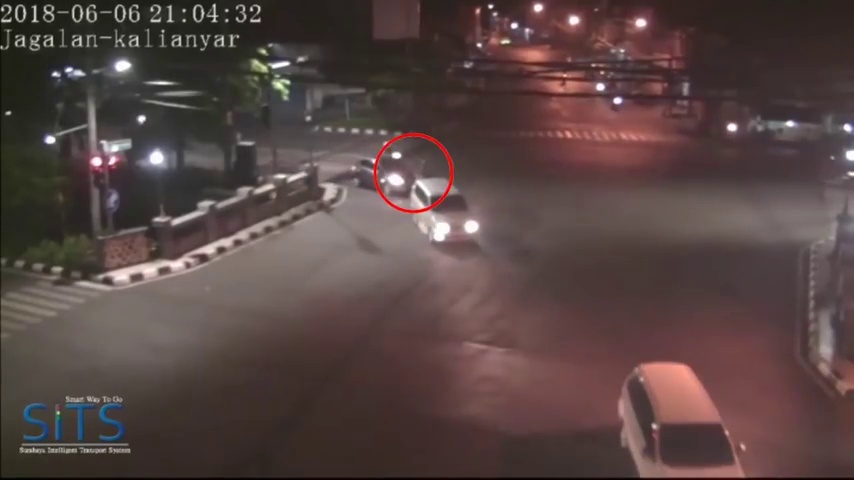car: (616, 359, 745, 480), (406, 176, 479, 243), (355, 157, 408, 196)
